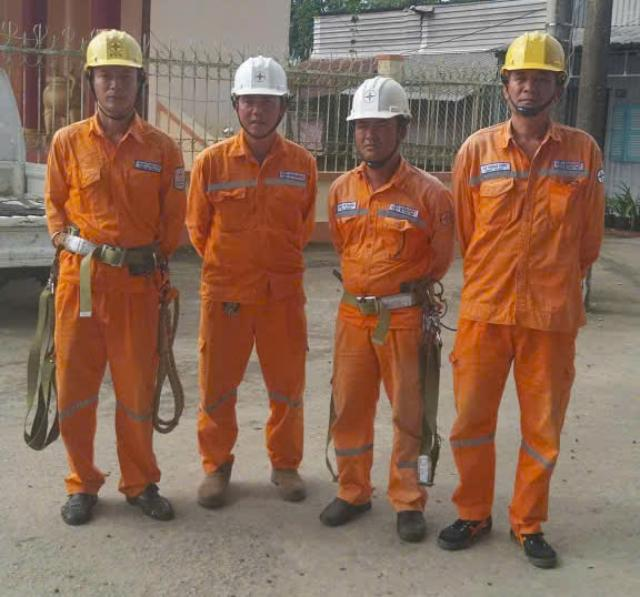harness: (49, 227, 200, 286), (333, 277, 451, 337)
helmet: (321, 52, 420, 133), (219, 41, 307, 110), (77, 15, 156, 88), (492, 32, 579, 83)
shoes: (429, 498, 503, 557), (117, 464, 179, 534), (379, 488, 437, 551), (260, 448, 317, 512), (177, 445, 229, 513), (316, 474, 372, 536), (51, 473, 102, 539), (506, 518, 563, 575)
